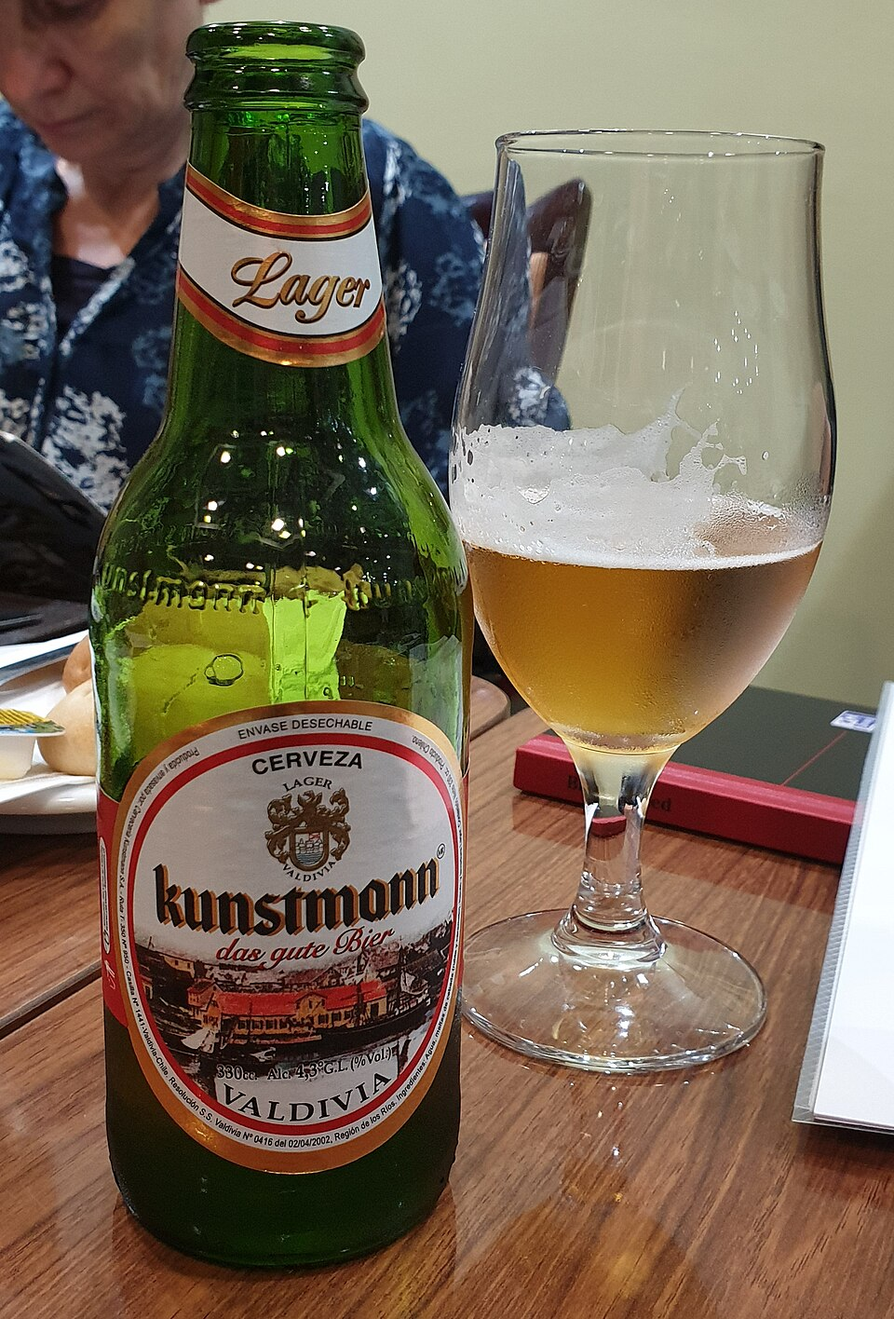beer-bottle: (77, 1, 477, 1284)
